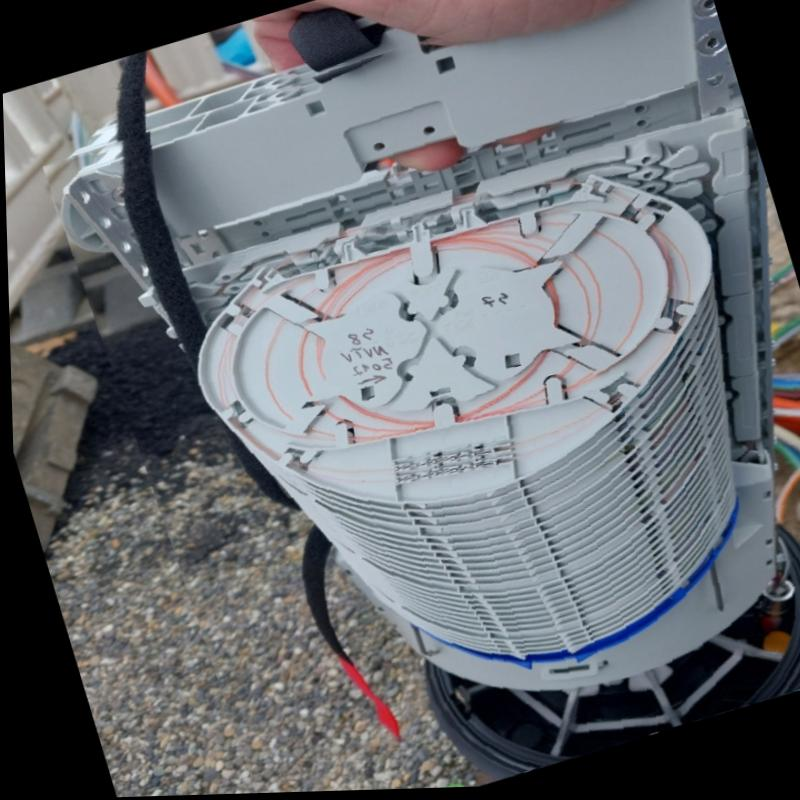NT-Muffen: (59, 0, 800, 787)
